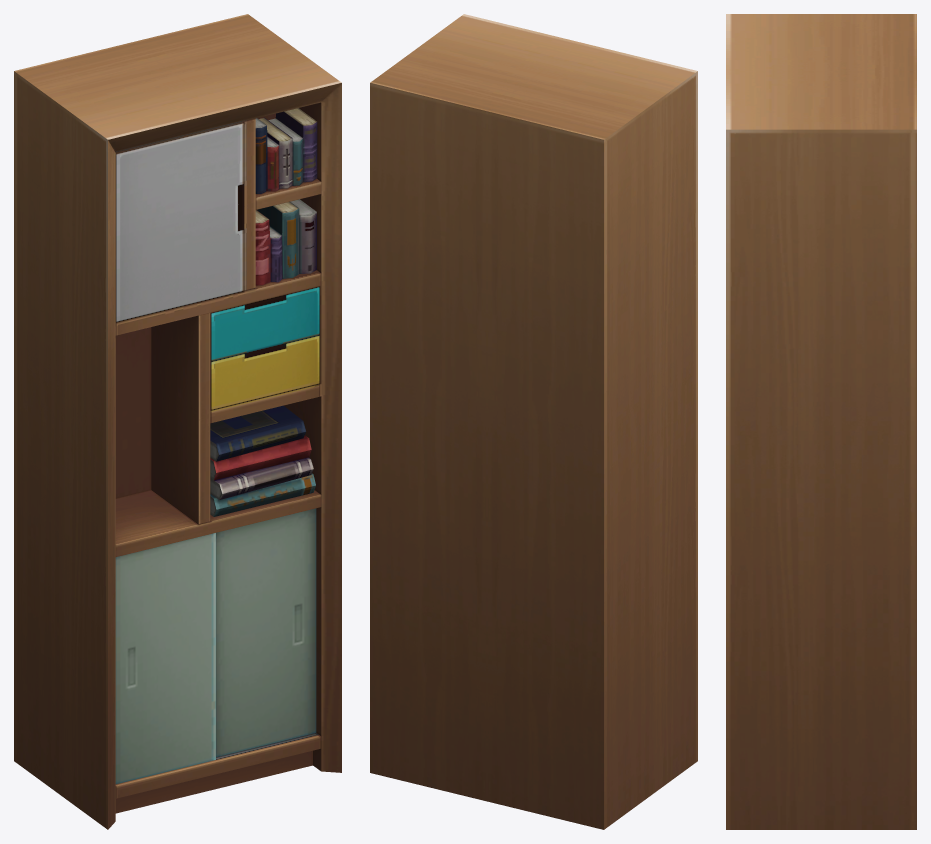
The model's file is Power塔式书柜.glb.
3 views of the same model, side by side, from view 1: azimuth 30°, elevation 25°; view 2: azimuth 150°, elevation 25°; view 3: azimuth 270°, elevation 25° (orthographic).
Visible parts, largest first — view 1: TinyLiving_PowerTowerBookcase_47, s4studio_mesh_1.002_46; view 2: TinyLiving_PowerTowerBookcase_47; view 3: TinyLiving_PowerTowerBookcase_47.
Boxes of the visible parts, <box> form: TinyLiving_PowerTowerBookcase_47: <box>14,14,341,829</box>; s4studio_mesh_1.002_46: <box>115,508,316,783</box>; TinyLiving_PowerTowerBookcase_47: <box>370,14,697,829</box>; TinyLiving_PowerTowerBookcase_47: <box>726,14,916,829</box>.
Size of the model in its own units: 0.85 by 2.4 by 0.5916.
2 materials, 2 textured.
